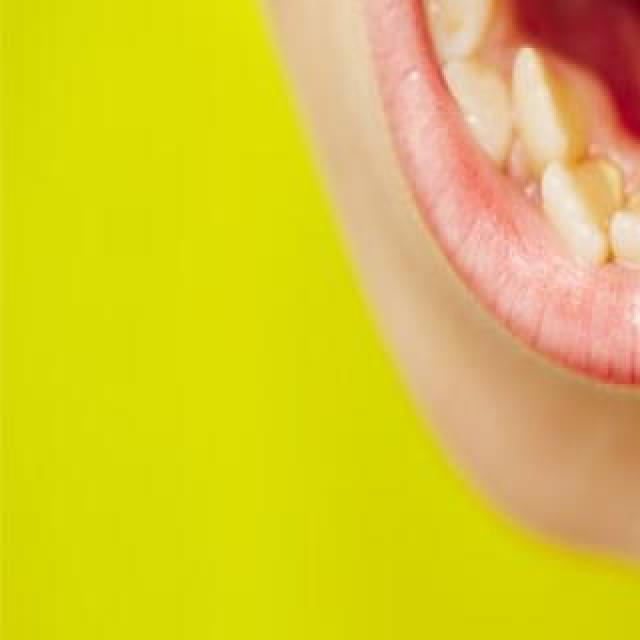calculus: (578, 146, 640, 218)
maligned: (489, 34, 605, 168), (530, 152, 622, 270)
